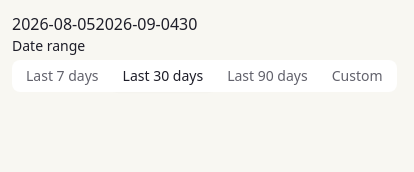
Test: DateRangeProvider / useDateRange › updates the range and persists it to localStorage when a preset is chosen
The width and height of the screenshot is (414, 172).
Step 1. Click the radio button labelled "Last 7 days" → point(62, 76), box [14,62,111,90]
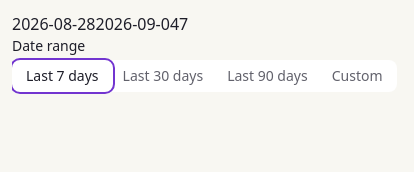
Check: the text with test id "preset" reads "7", box [179,13,188,35]
